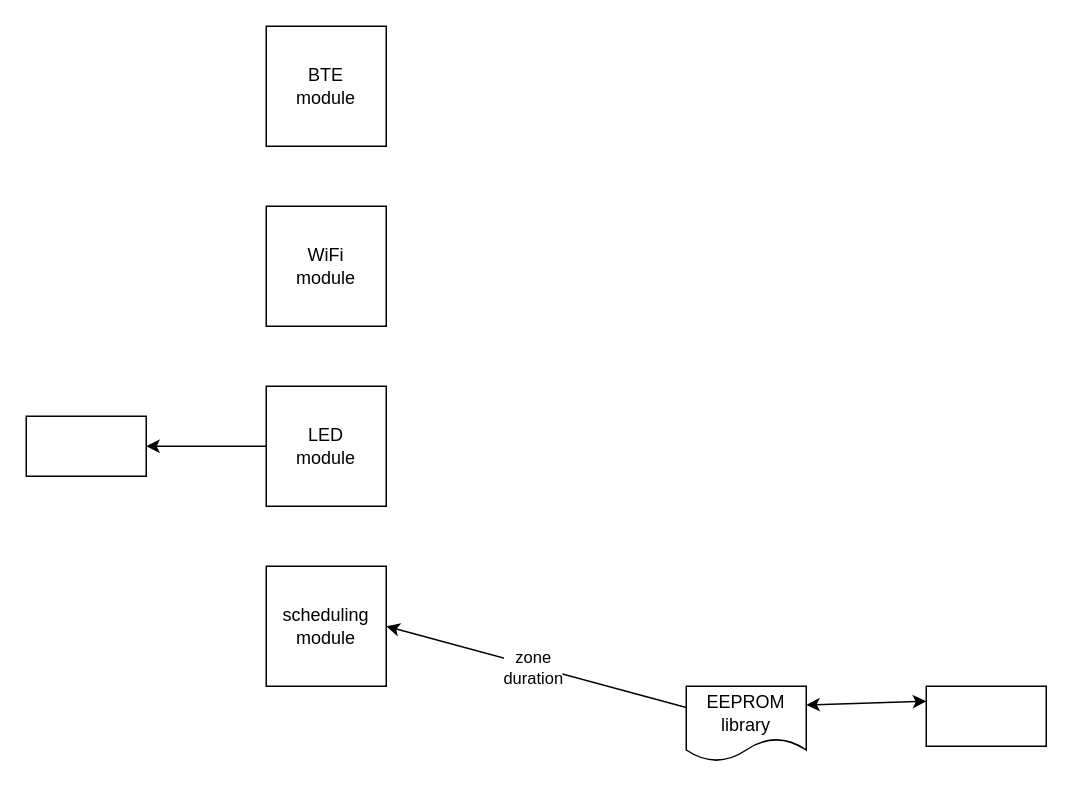
The diagram is 1073 pixels wide and 788 high, and some of its shapes have lost their labels. Here are the shapes that lost their labels. From the top down, the centre of each, then its label:
At point 85,445: "LED".
At point 985,715: "EEPROM".
